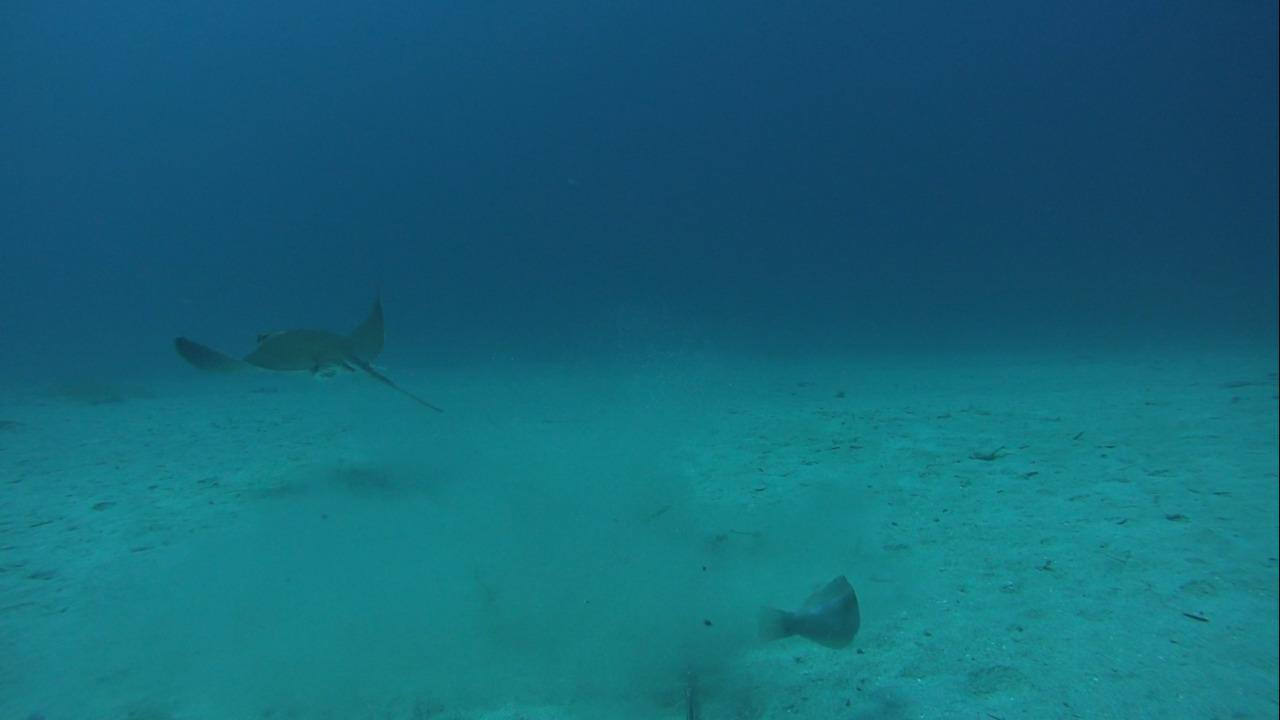myliobatis: (160, 289, 452, 428)
raor: (757, 573, 860, 655)
